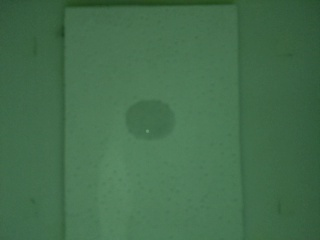Water_detected: (126, 100, 166, 140)
